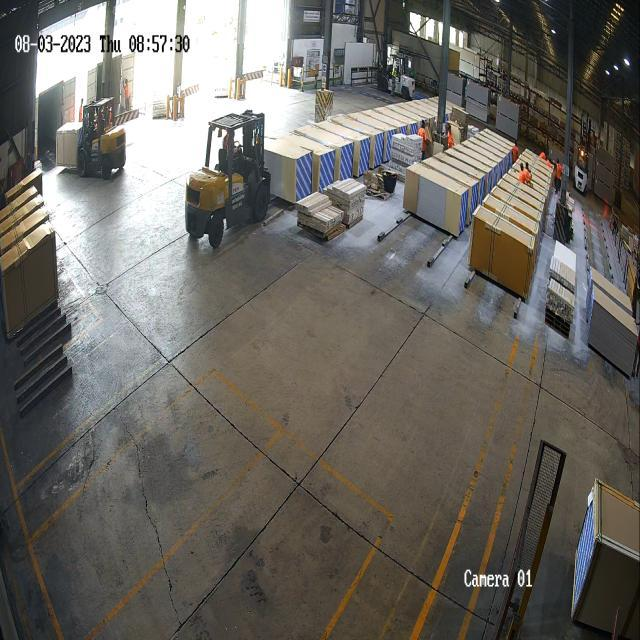forklift: (180, 98, 270, 253), (78, 94, 126, 192), (377, 50, 415, 100)
person: (420, 122, 428, 158), (122, 77, 130, 110), (512, 141, 520, 164), (519, 162, 526, 185), (448, 125, 454, 148)
